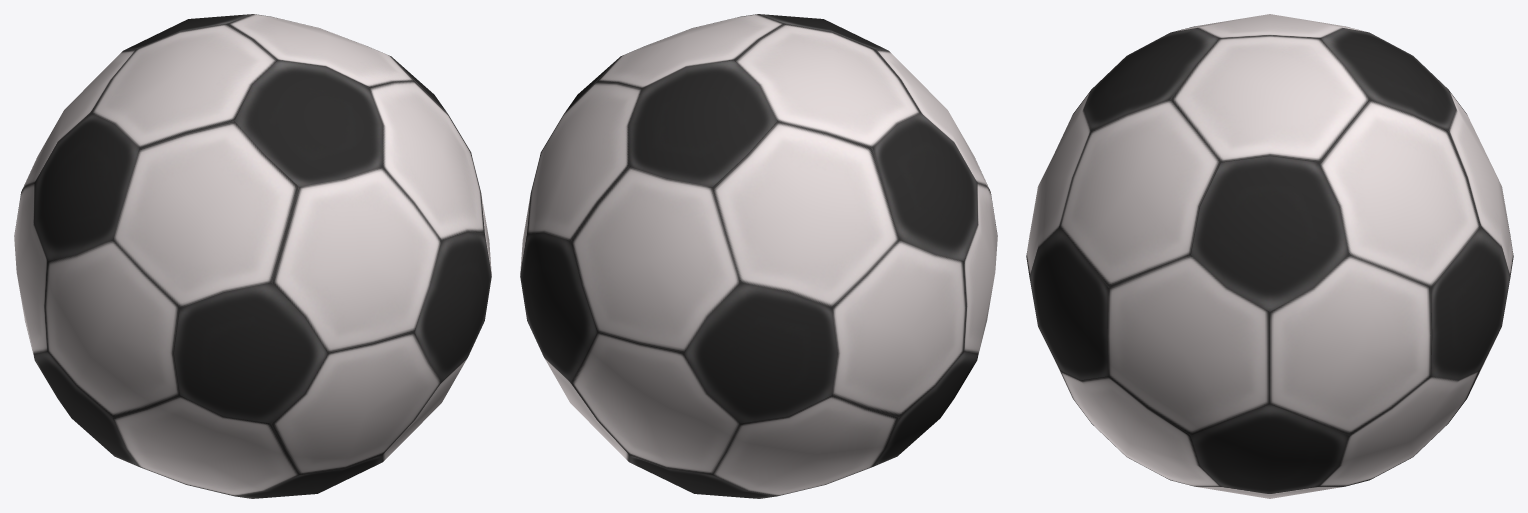
File: ball.FBX
The picture shows the model from 3 angles, left to right: view 1: azimuth 30°, elevation 25°; view 2: azimuth 150°, elevation 25°; view 3: azimuth 270°, elevation 25°; orthographic projection.
Visible parts, largest first — view 1: Hedra001; view 2: Hedra001; view 3: Hedra001.
Boxes of the visible parts, x1,y1,x2,y2 form: Hedra001: (14,14,491,498); Hedra001: (520,14,997,498); Hedra001: (1026,14,1513,498).
Bounding box in the file's own units: 31.2 × 31.2 × 31.2.
